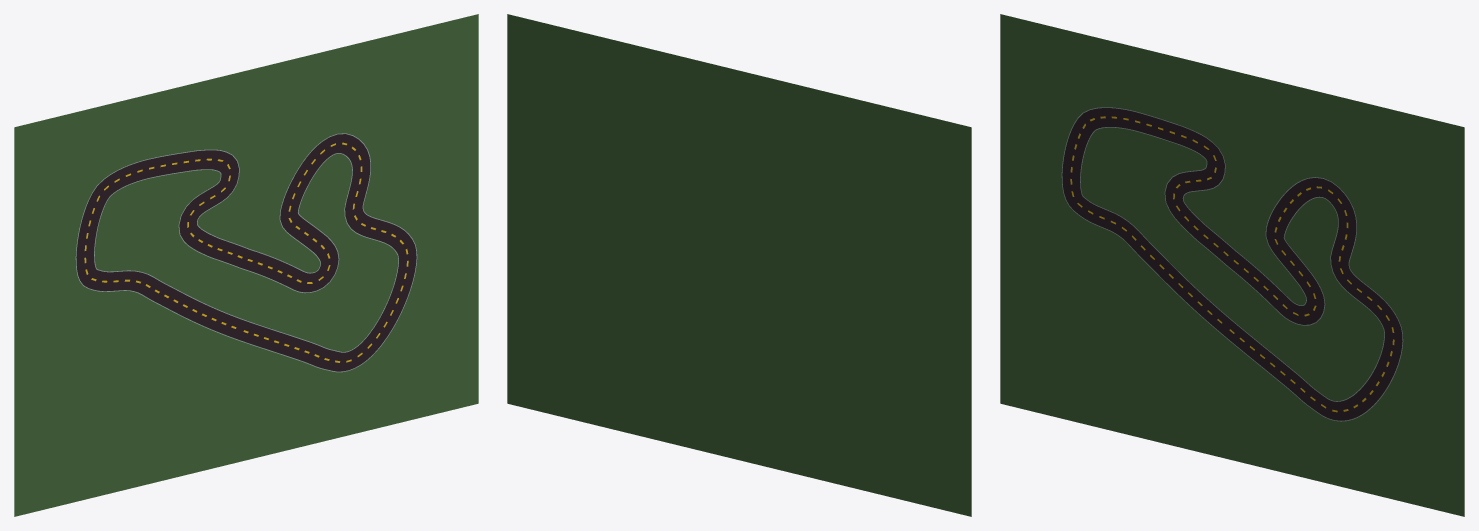
The model's file is track.obj.
3 views of the same model, side by side, from view 1: azimuth 30°, elevation 25°; view 2: azimuth 150°, elevation 25°; view 3: azimuth 330°, elevation 25° (orthographic).
Bounding box in the file's own units: 26.03 × 20.87 × 0.0025.
4 materials, 4 textured.
